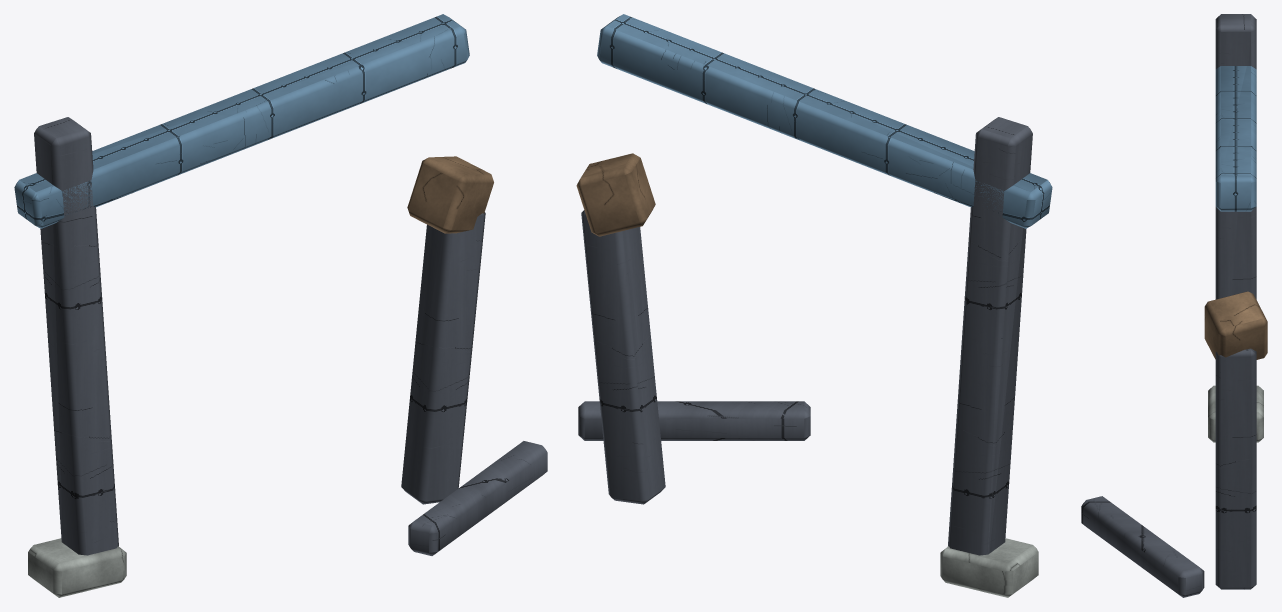
The model's file is broken_support_frame.glb.
3 views of the same model, side by side, from view 1: azimuth 30°, elevation 25°; view 2: azimuth 150°, elevation 25°; view 3: azimuth 270°, elevation 25° (orthographic). The views are drawn at different scales.
Parts seen in each view (by area): view 1: DL010_BrokenSupportFrame_metal_dark, DL010_BrokenSupportFrame_faded_blue, DL010_BrokenSupportFrame_corrosion, DL010_BrokenSupportFrame_mineral; view 2: DL010_BrokenSupportFrame_metal_dark, DL010_BrokenSupportFrame_faded_blue, DL010_BrokenSupportFrame_corrosion, DL010_BrokenSupportFrame_mineral; view 3: DL010_BrokenSupportFrame_metal_dark, DL010_BrokenSupportFrame_faded_blue, DL010_BrokenSupportFrame_corrosion, DL010_BrokenSupportFrame_mineral.
Part boxes in pixels (bbox=[...]): DL010_BrokenSupportFrame_metal_dark: bbox=[34, 117, 547, 555]; DL010_BrokenSupportFrame_faded_blue: bbox=[14, 14, 469, 228]; DL010_BrokenSupportFrame_corrosion: bbox=[407, 156, 493, 233]; DL010_BrokenSupportFrame_mineral: bbox=[28, 538, 126, 597]; DL010_BrokenSupportFrame_metal_dark: bbox=[578, 117, 1032, 555]; DL010_BrokenSupportFrame_faded_blue: bbox=[597, 14, 1052, 228]; DL010_BrokenSupportFrame_corrosion: bbox=[576, 153, 655, 236]; DL010_BrokenSupportFrame_mineral: bbox=[940, 538, 1038, 597]; DL010_BrokenSupportFrame_metal_dark: bbox=[1081, 14, 1256, 597]; DL010_BrokenSupportFrame_faded_blue: bbox=[1215, 66, 1256, 211]; DL010_BrokenSupportFrame_corrosion: bbox=[1204, 291, 1267, 359]; DL010_BrokenSupportFrame_mineral: bbox=[1208, 385, 1263, 442].
Size of the model in its own units: 2.7 by 2.47 by 0.9985.
4 materials, 4 textured.
